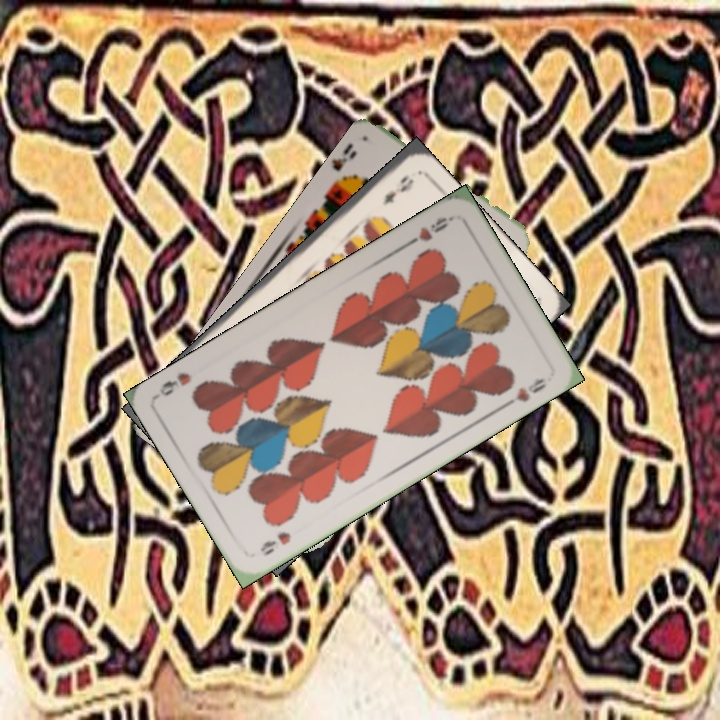E9: (378, 171, 417, 209)
H9: (401, 212, 455, 250), (256, 527, 294, 559)
S9: (329, 146, 360, 187)
